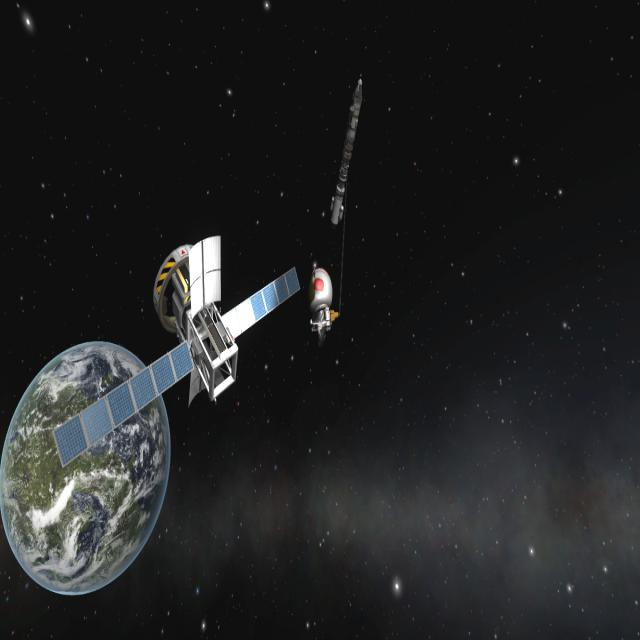large_debris: (316, 76, 367, 240), (304, 253, 344, 349)
satellite: (52, 233, 300, 495)
